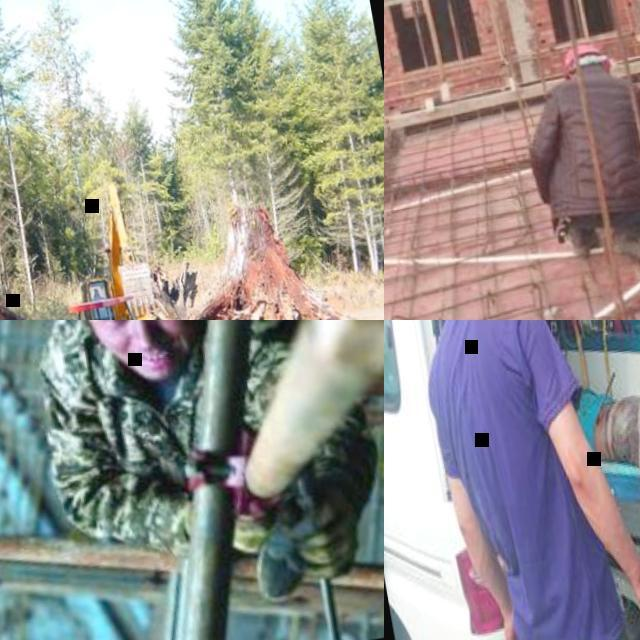helmet: (385, 320, 640, 640), (573, 320, 640, 640), (558, 40, 610, 77)
vest: (92, 294, 100, 301)
